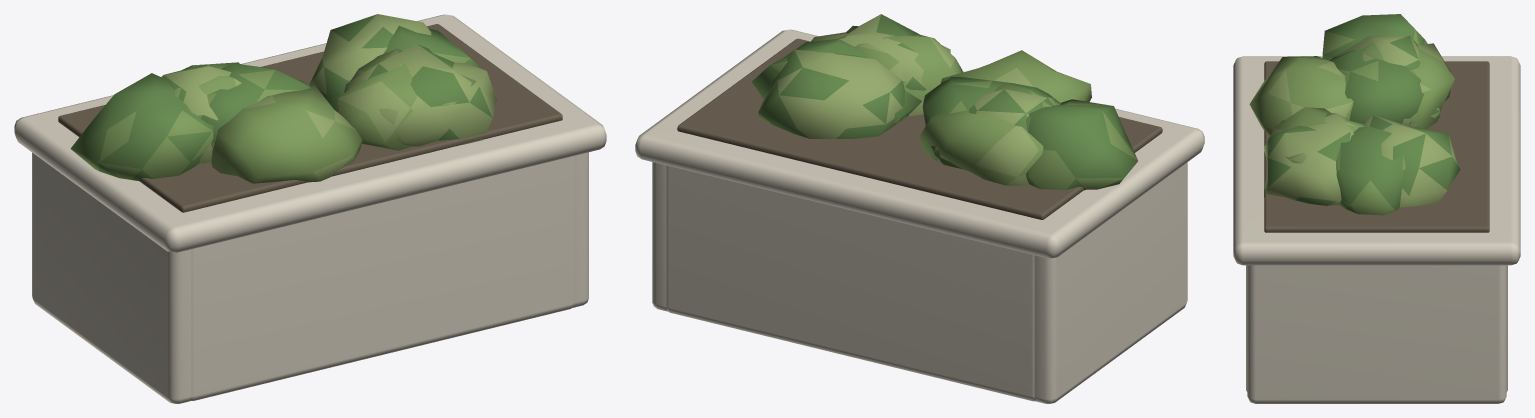
File: Planter.fbx
3 renders of one model, left to right at view 1: azimuth 30°, elevation 25°; view 2: azimuth 150°, elevation 25°; view 3: azimuth 270°, elevation 25°, orthographic. The views are drawn at different scales.
Visible parts, largest first — view 1: Planter short wall, Varied leaf crown.087, Varied leaf crown.086, Varied leaf crown.088, Inset soil; view 2: Planter short wall, Inset soil, Varied leaf crown.088, Varied leaf crown.087, Varied leaf crown.086; view 3: Planter short wall, Inset soil, Varied leaf crown.088, Varied leaf crown.086, Varied leaf crown.087.
Boxes of the visible parts, bbox=[...] form: Planter short wall: bbox=[14, 14, 606, 403]; Varied leaf crown.087: bbox=[174, 48, 476, 183]; Varied leaf crown.086: bbox=[70, 25, 481, 180]; Varied leaf crown.088: bbox=[161, 14, 496, 163]; Inset soil: bbox=[58, 24, 562, 212]; Planter short wall: bbox=[635, 29, 1204, 403]; Inset soil: bbox=[677, 38, 1162, 219]; Varied leaf crown.088: bbox=[758, 14, 1056, 168]; Varied leaf crown.087: bbox=[845, 25, 1091, 185]; Varied leaf crown.086: bbox=[752, 38, 1137, 190]; Planter short wall: bbox=[1233, 56, 1520, 403]; Inset soil: bbox=[1264, 61, 1489, 232]; Varied leaf crown.088: bbox=[1264, 35, 1460, 207]; Varied leaf crown.086: bbox=[1322, 14, 1427, 215]; Varied leaf crown.087: bbox=[1249, 35, 1454, 163].
Size of the model in its own units: 218 by 120 by 135.
